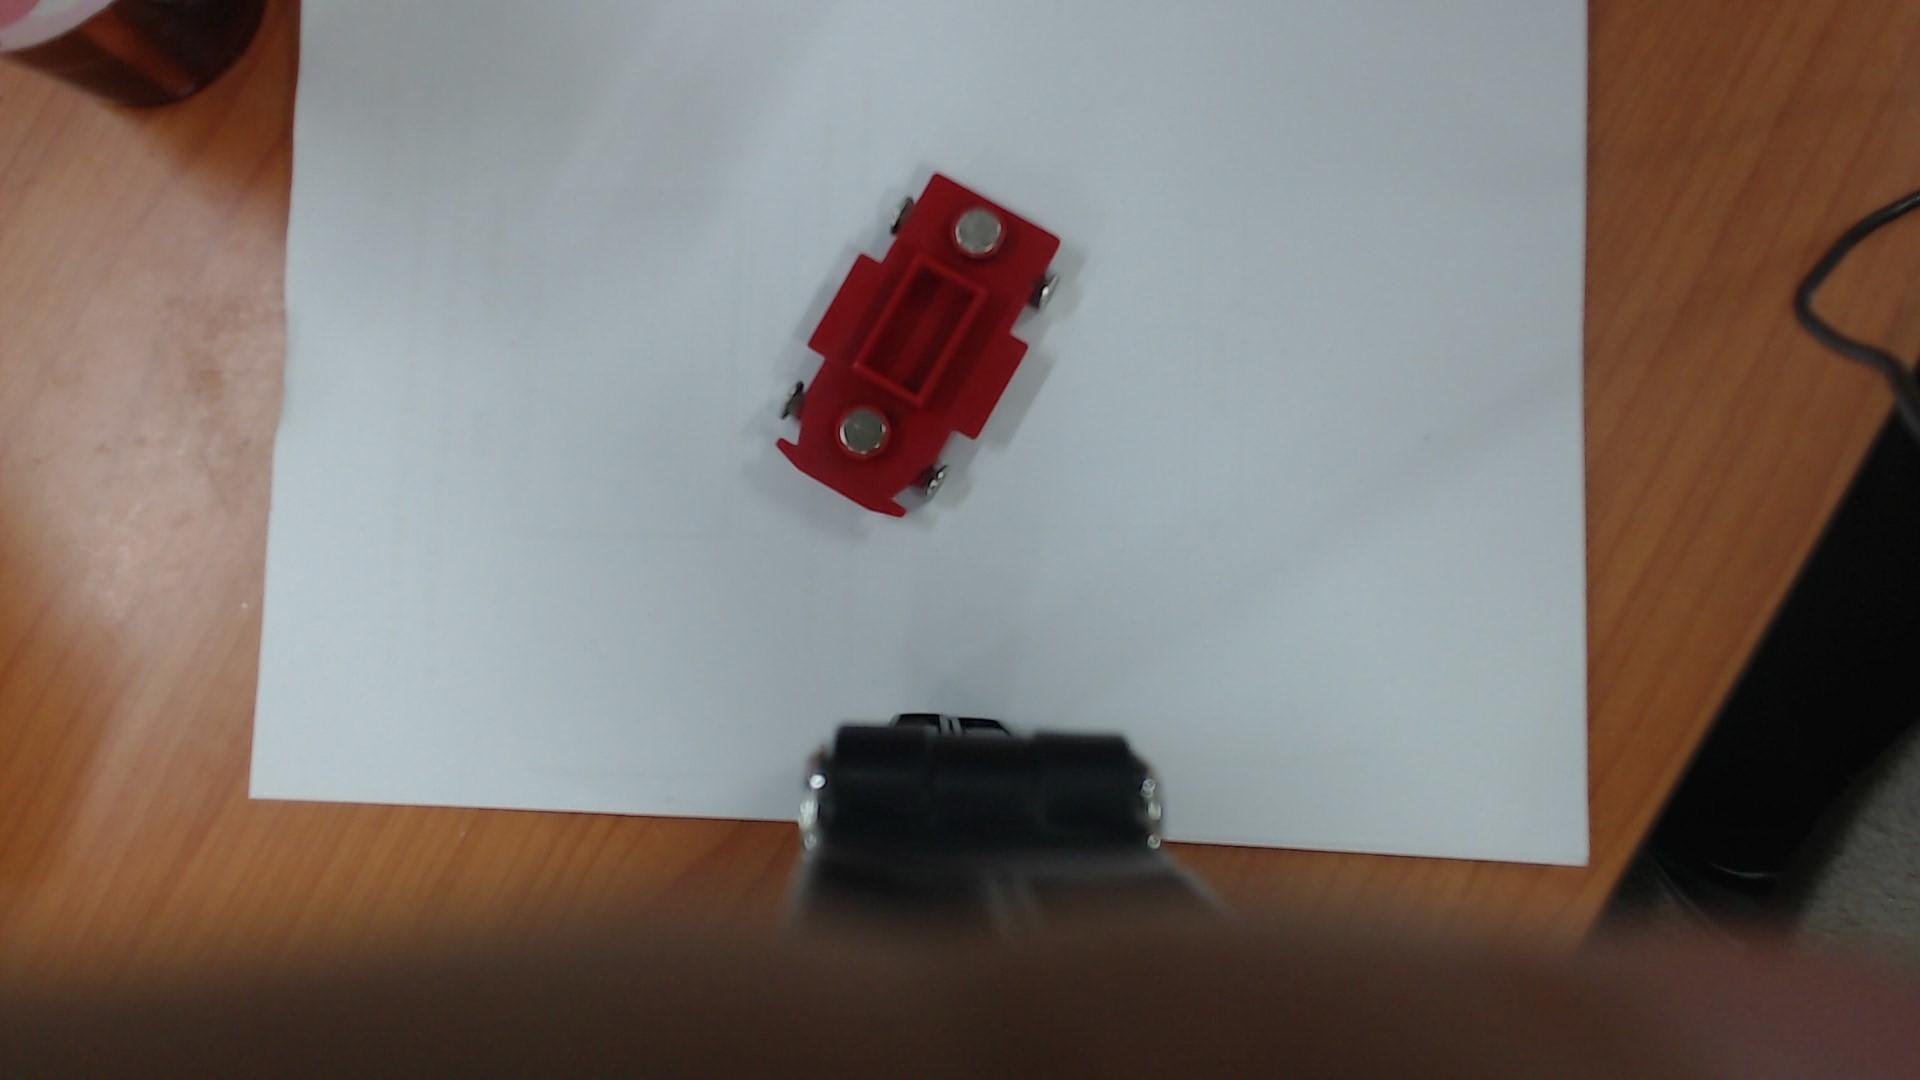lower_ok: (841, 245, 997, 417)
